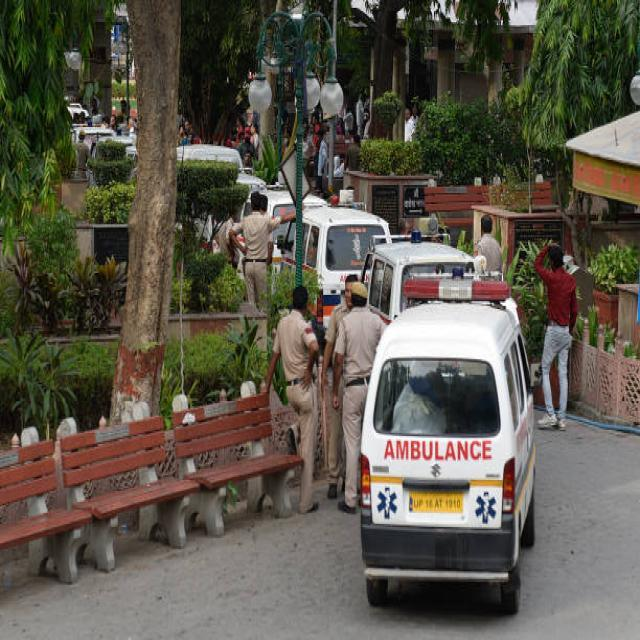ambulance: (370, 267, 539, 607), (359, 233, 518, 310)
